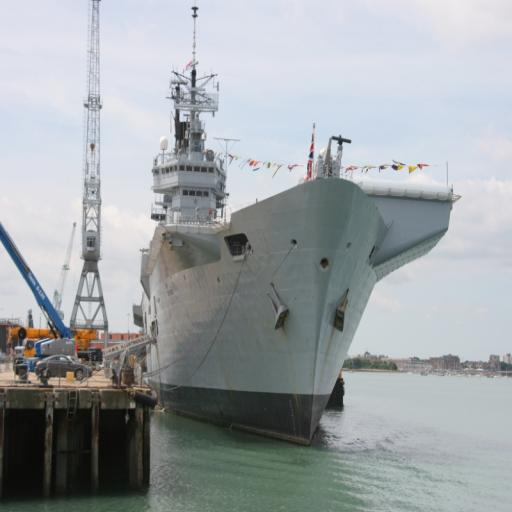Portanaves: (135, 2, 462, 457)
